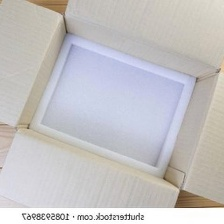foam_box: (24, 27, 202, 182)
